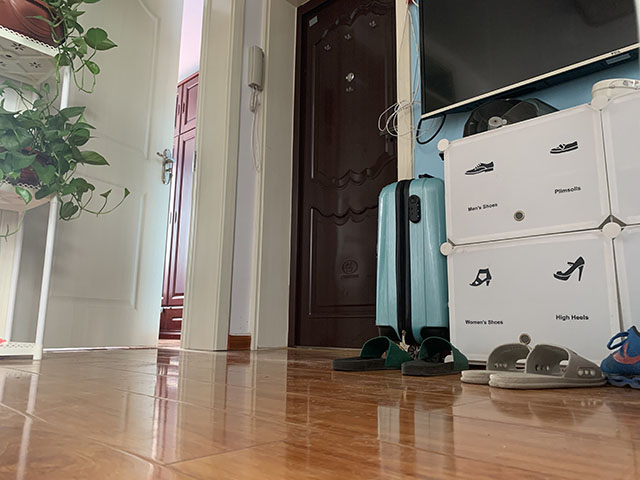cabinet: (436, 88, 640, 372)
slippers: (460, 342, 608, 391), (331, 334, 473, 378)
